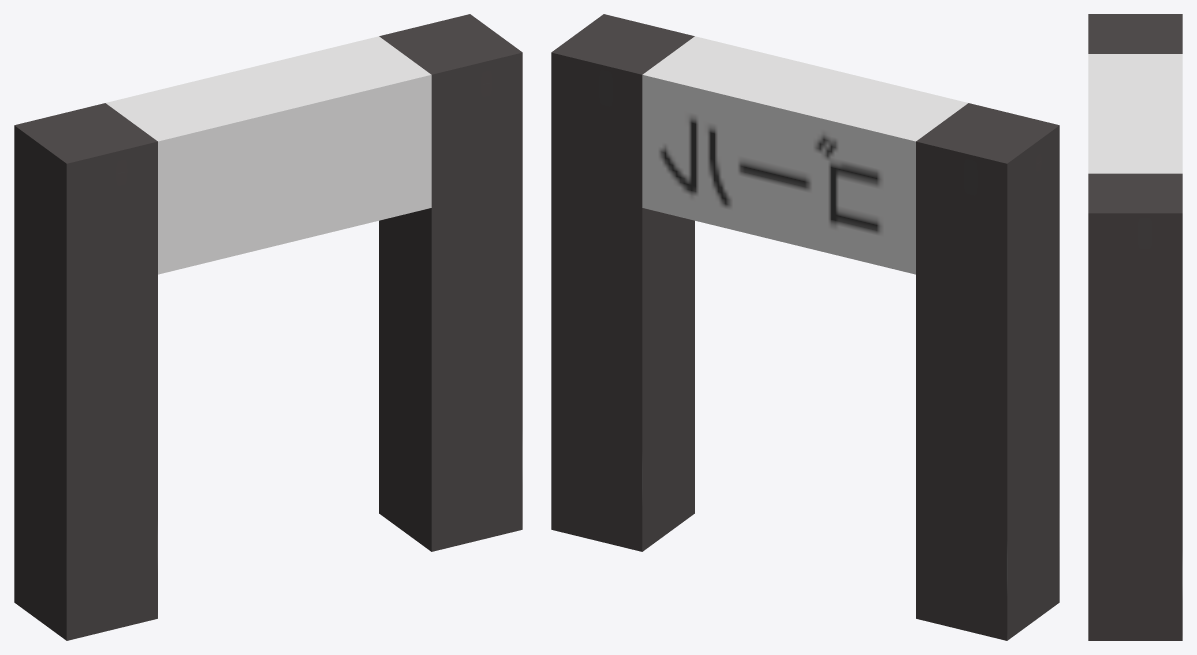
The model's file is goal.obj.
3 views of the same model, side by side, from view 1: azimuth 30°, elevation 25°; view 2: azimuth 150°, elevation 25°; view 3: azimuth 270°, elevation 25° (orthographic). The views are drawn at different scales.
Visible parts, largest first — view 1: goal_立方体.002; view 2: goal_立方体.002; view 3: goal_立方体.002.
Boxes of the visible parts, x1=… form: goal_立方体.002: x1=14, y1=14, x2=522, y2=640; goal_立方体.002: x1=551, y1=14, x2=1059, y2=640; goal_立方体.002: x1=1088, y1=14, x2=1182, y2=640.
Bounding box in the file's own units: 2 × 2 × 0.4.
1 material, 1 textured.
